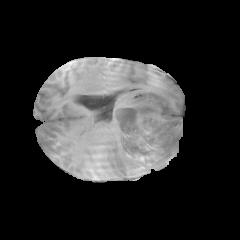glioma: (110, 90, 182, 179)
